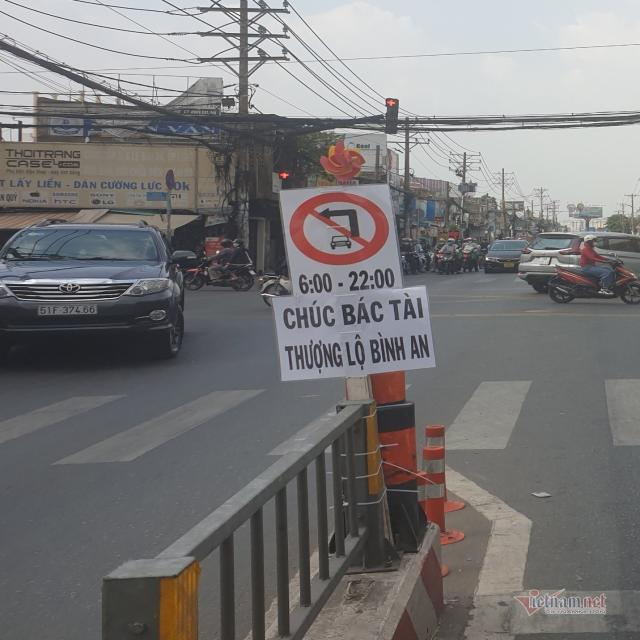bien_cam: (287, 192, 396, 270)
